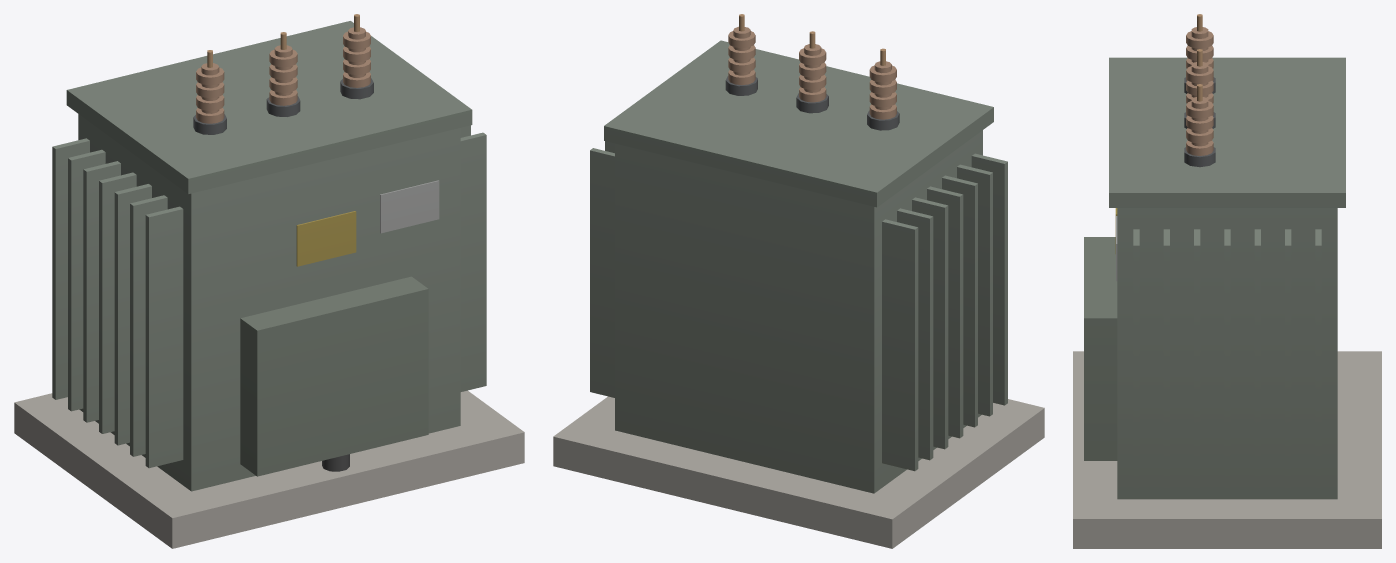
File: transformer_steel.glb
3 renders of one model, left to right at view 1: azimuth 30°, elevation 25°; view 2: azimuth 150°, elevation 25°; view 3: azimuth 270°, elevation 25°, orthographic. The views are drawn at different scales.
Parts seen in each view (by area): view 1: transformer_steel; view 2: transformer_steel; view 3: transformer_steel.
Part boxes in pixels (left/top/right/bottom): transformer_steel: left=14, top=14, right=524, bottom=548; transformer_steel: left=553, top=14, right=1044, bottom=548; transformer_steel: left=1073, top=14, right=1381, bottom=548.
Bounding box in the file's own units: 1.44 × 1.66 × 1.12.
